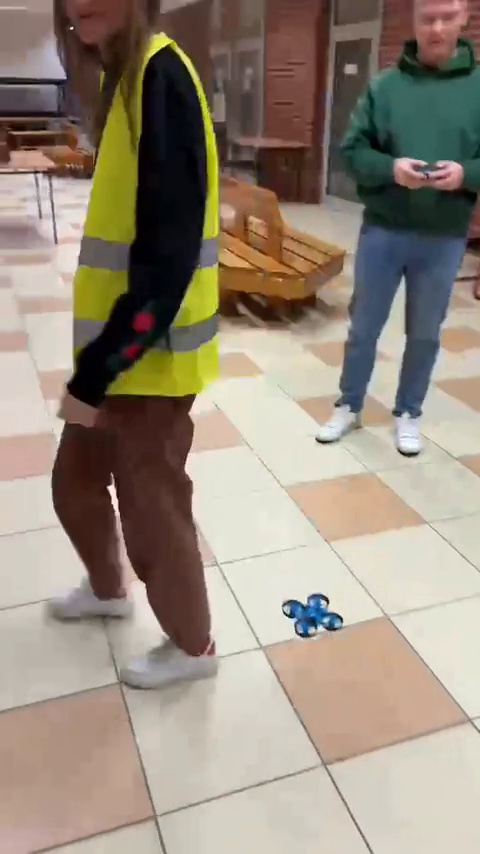drone: (277, 599, 343, 638)
no vest: (326, 1, 480, 463)
vest: (47, 3, 242, 691)
